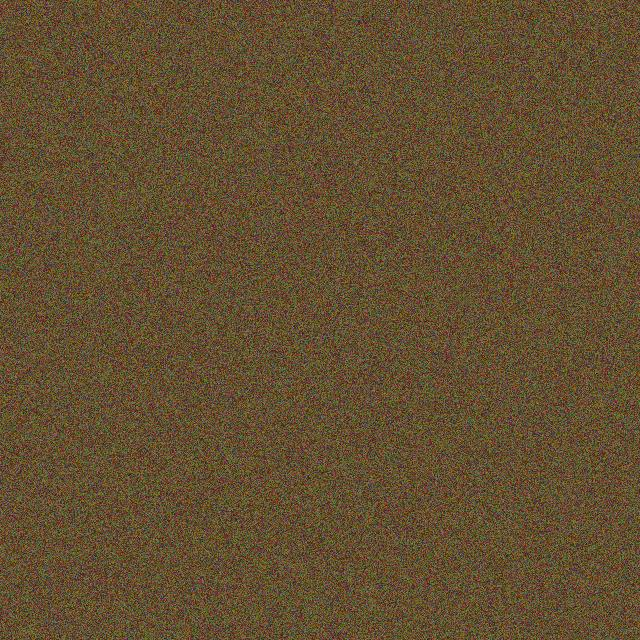unknown_man_made_object: (468, 300, 509, 351)
